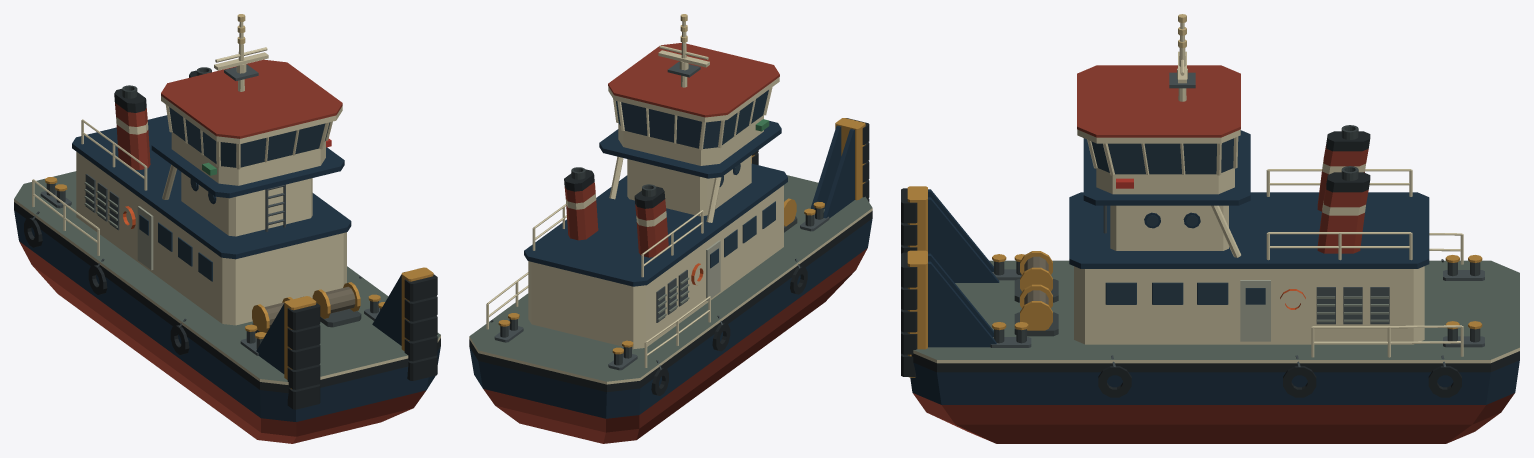
File: pusher_mid.glb
3 views of the same model, side by side, from view 1: azimuth 30°, elevation 25°; view 2: azimuth 150°, elevation 25°; view 3: azimuth 270°, elevation 25° (orthographic). The views are drawn at different scales.
Parts seen in each view (by area): view 1: Pilothouse, Hull and push knees, Deck machinery; view 2: Pilothouse, Hull and push knees, Deck machinery; view 3: Hull and push knees, Pilothouse, Deck machinery.
Part boxes in pixels (x1,y1,x2,y2): Pilothouse: (72,59,351,325); Hull and push knees: (14,171,440,443); Deck machinery: (24,14,384,355); Pilothouse: (524,43,787,349); Hull and push knees: (469,118,872,443); Deck machinery: (486,14,829,395); Hull and push knees: (901,186,1519,443); Pilothouse: (1069,65,1429,344); Deck machinery: (990,14,1484,397).
Bounding box in the file's own units: 6.51 × 11.57 × 16.58.
